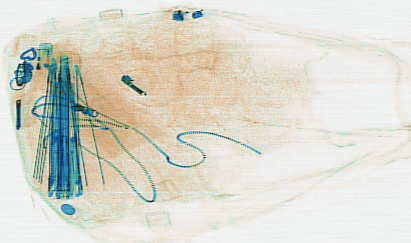lighter: (26, 38, 52, 94)
